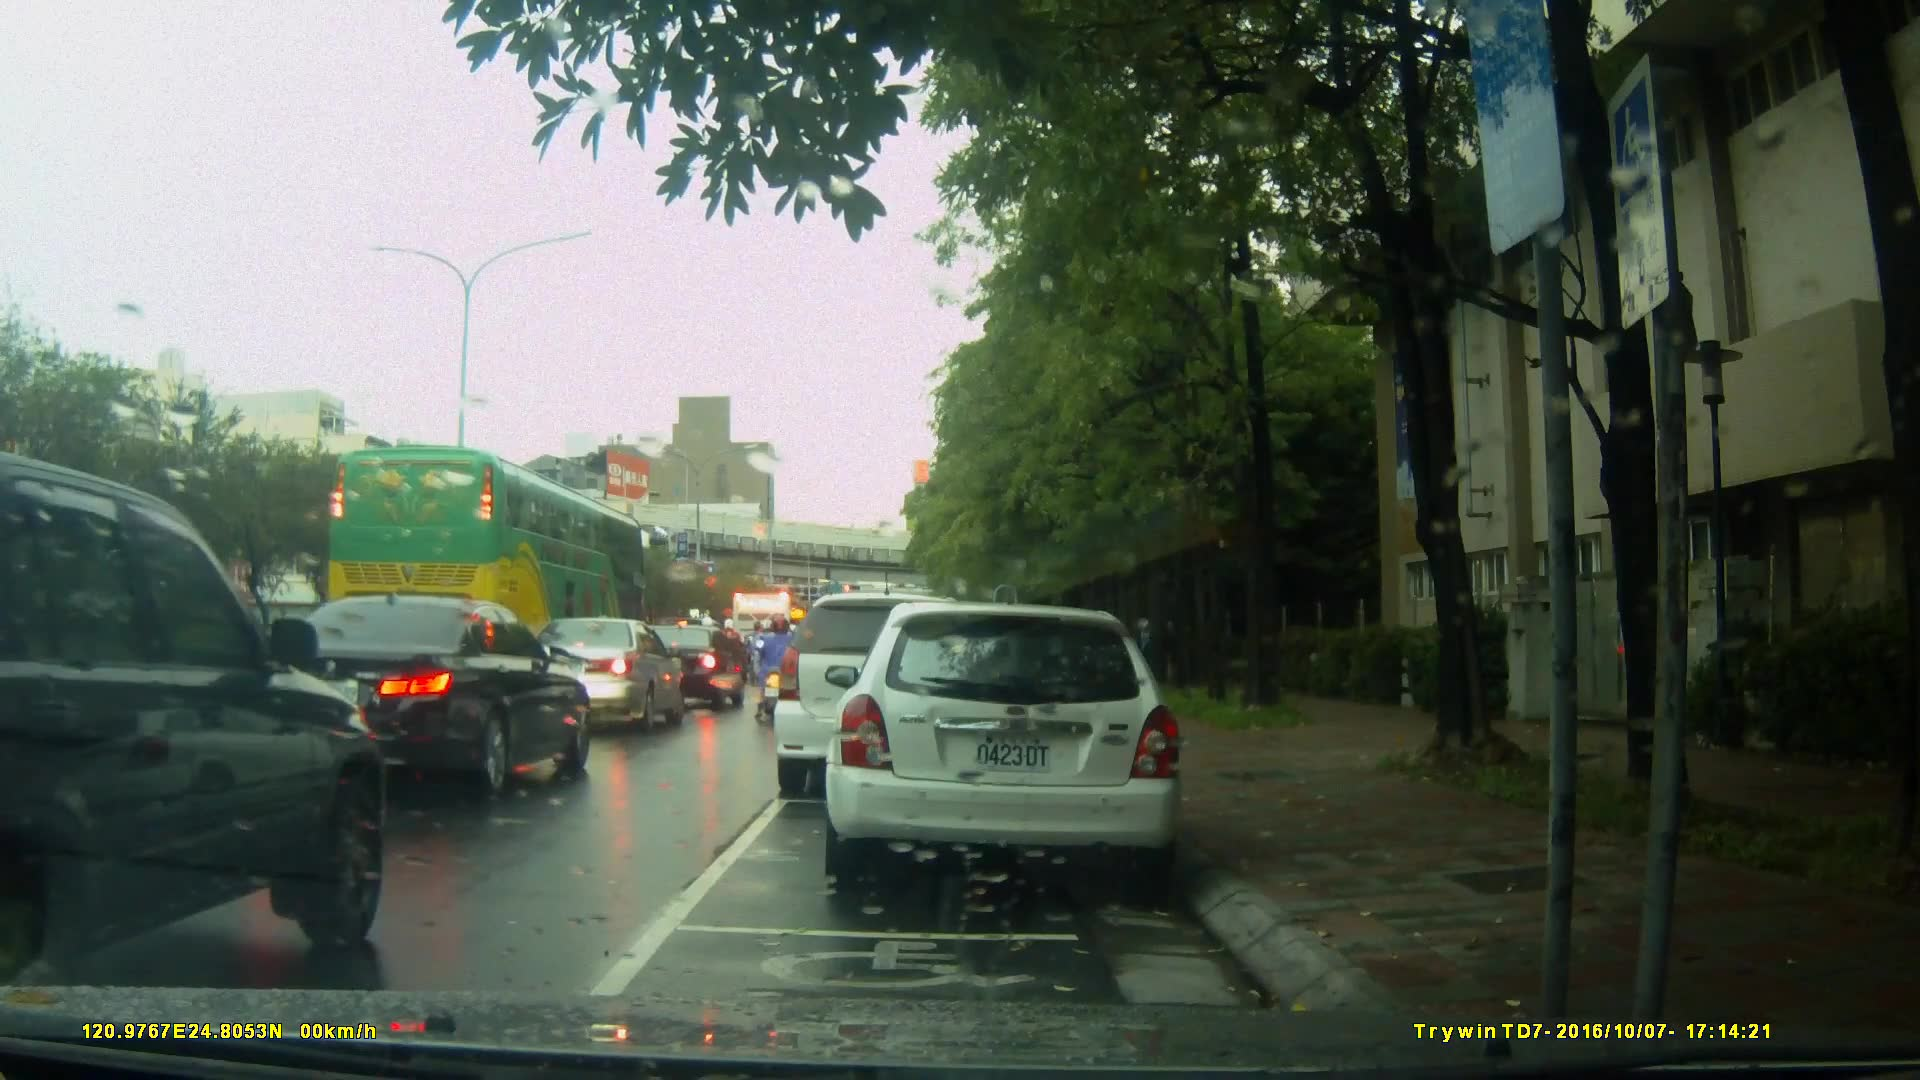rider: (749, 614, 797, 716)
vehicle: (1, 449, 390, 987), (831, 592, 1196, 897), (229, 592, 597, 807), (322, 442, 652, 659), (782, 602, 999, 802), (514, 615, 685, 734), (638, 626, 747, 715)
